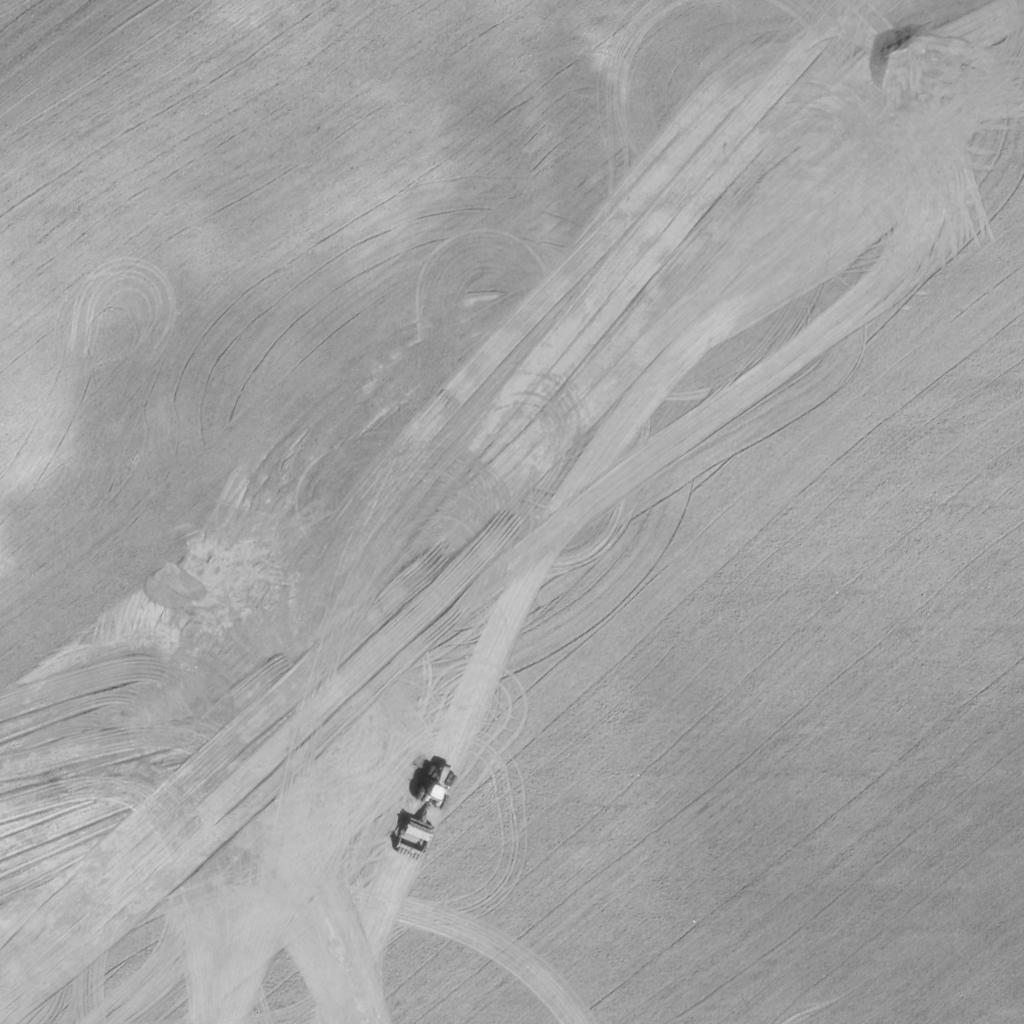vehicle: (416, 764, 460, 810)
